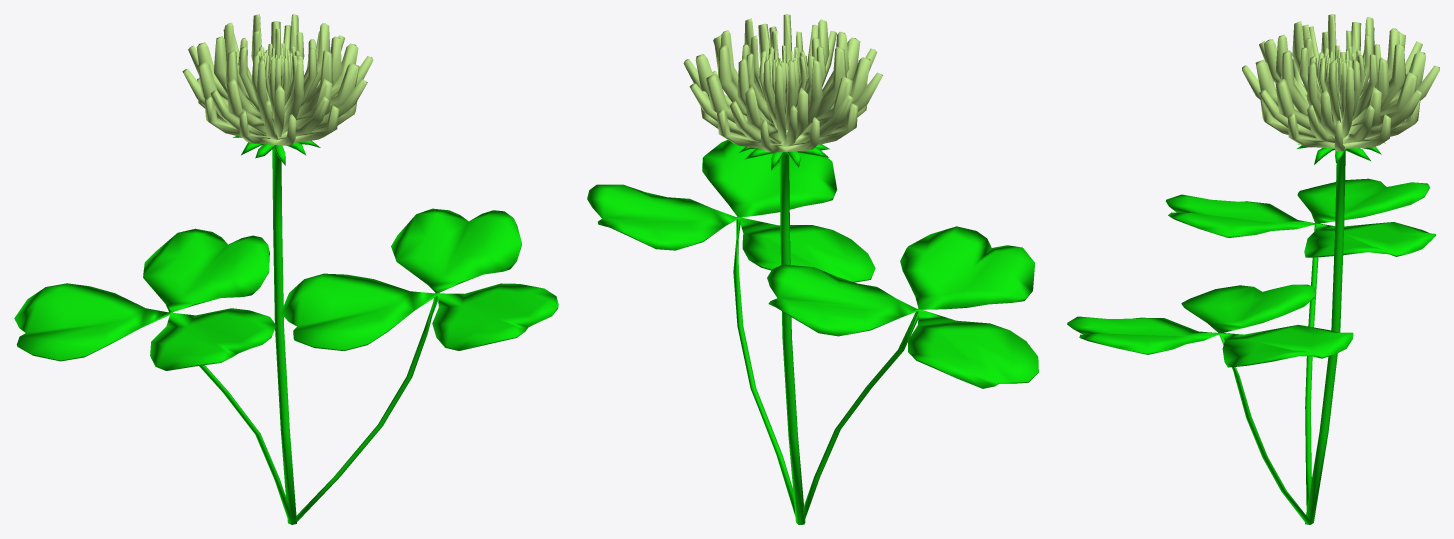
The model's file is White_Clover_LP_1.fbx.
The picture shows the model from 3 angles, left to right: view 1: azimuth 30°, elevation 25°; view 2: azimuth 150°, elevation 25°; view 3: azimuth 270°, elevation 25°; orthographic projection. The views are drawn at different scales.
Parts seen in each view (by area): view 1: WhiteClover_LP_1; view 2: WhiteClover_LP_1; view 3: WhiteClover_LP_1.
Boxes of the visible parts, x1,y1,x2,y2 form: WhiteClover_LP_1: [14, 14, 558, 524]; WhiteClover_LP_1: [587, 14, 1038, 524]; WhiteClover_LP_1: [1067, 14, 1439, 524].
Bounding box in the file's own units: 90.4 × 90.46 × 62.87.
